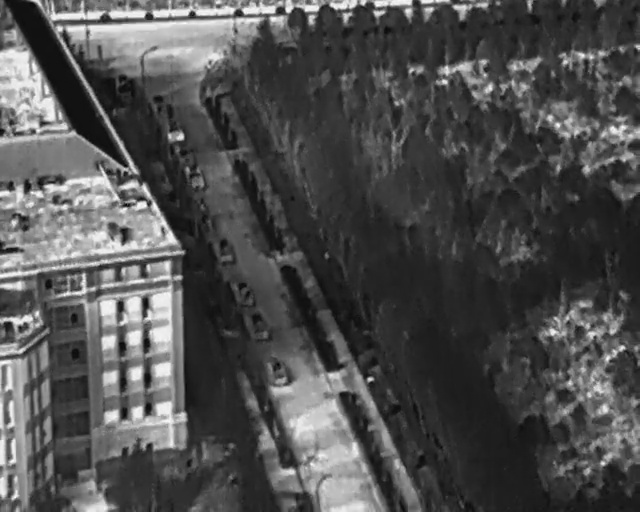Car: (242, 306, 273, 344), (261, 352, 289, 389), (215, 233, 238, 266), (162, 116, 187, 146)
